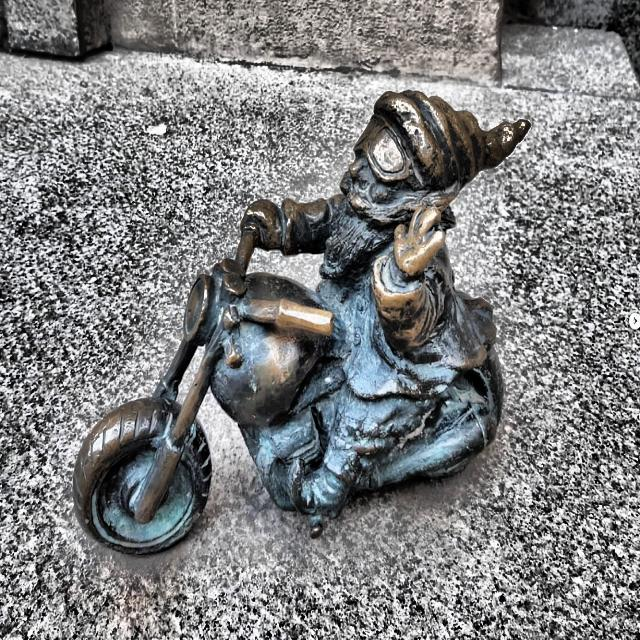Wentyl: (74, 91, 529, 554)
